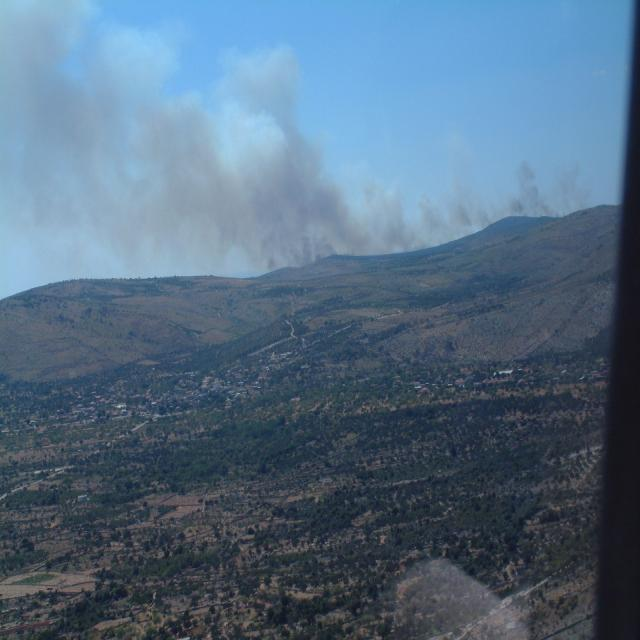Smoke: (1, 0, 594, 274)
